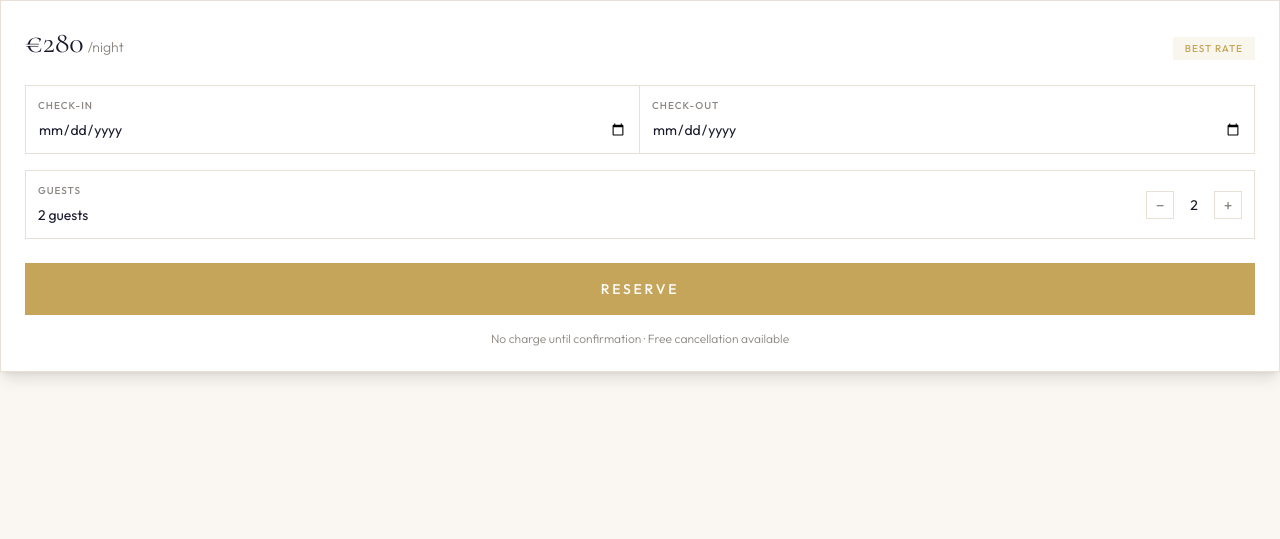
Scenario: BookingWidget — price summary › shows price summary when both check-in and check-out dates are set
Type "2025-07-01" into the date field below "Check-in".
click(332, 130); type("2025-07-01")  # box [38,120,627,140]
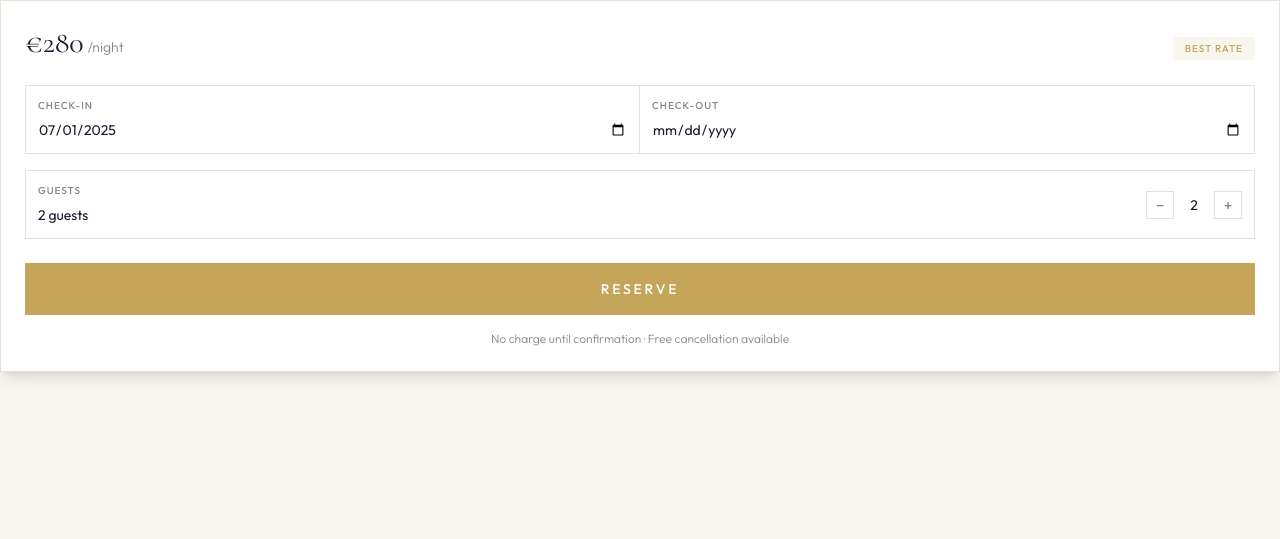
Type "2025-07-08" into the date field below "Check-out".
click(947, 130); type("2025-07-08")  # box [652,120,1242,140]
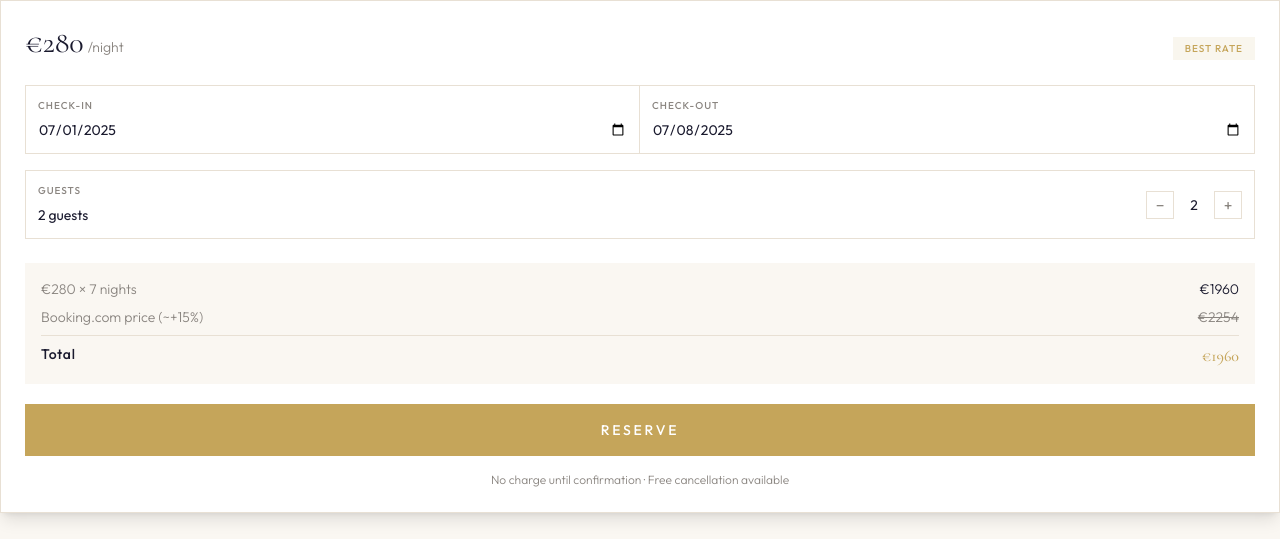
Check: the text "Total" is shown, box [41,344,76,368]
